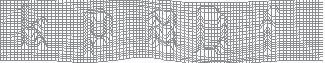8: (147, 9, 178, 56)
D: (194, 4, 228, 59)
f: (257, 5, 281, 56)
k: (19, 3, 48, 51)
p: (82, 8, 114, 57)
